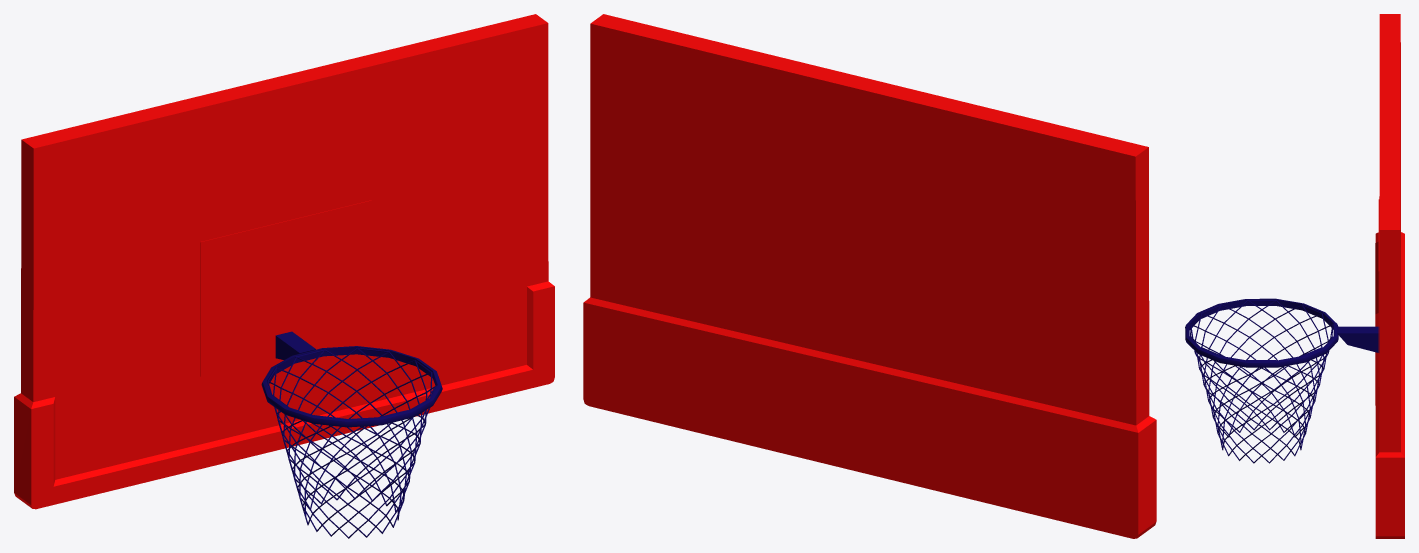
The model's file is Basket_Back.fbx.
The picture shows the model from 3 angles, left to right: view 1: azimuth 30°, elevation 25°; view 2: azimuth 150°, elevation 25°; view 3: azimuth 270°, elevation 25°; orthographic projection. The views are drawn at different scales.
Parts seen in each view (by area): view 1: Backboard_Middle, Hoop_Mesh, Hoop_Base; view 2: Backboard_Middle; view 3: Backboard_Middle, Hoop_Mesh, Hoop_Base.
Part boxes in pixels (x1,y1,x2,y2): Backboard_Middle: (14,14,554,509); Hoop_Mesh: (267,347,436,538); Hoop_Base: (261,331,442,427); Backboard_Middle: (583,14,1156,538); Backboard_Middle: (1375,14,1404,538); Hoop_Mesh: (1190,300,1333,463); Hoop_Base: (1185,298,1379,367).
Bounding box in the file's own units: 1.86 × 0.7861 × 1.3.
